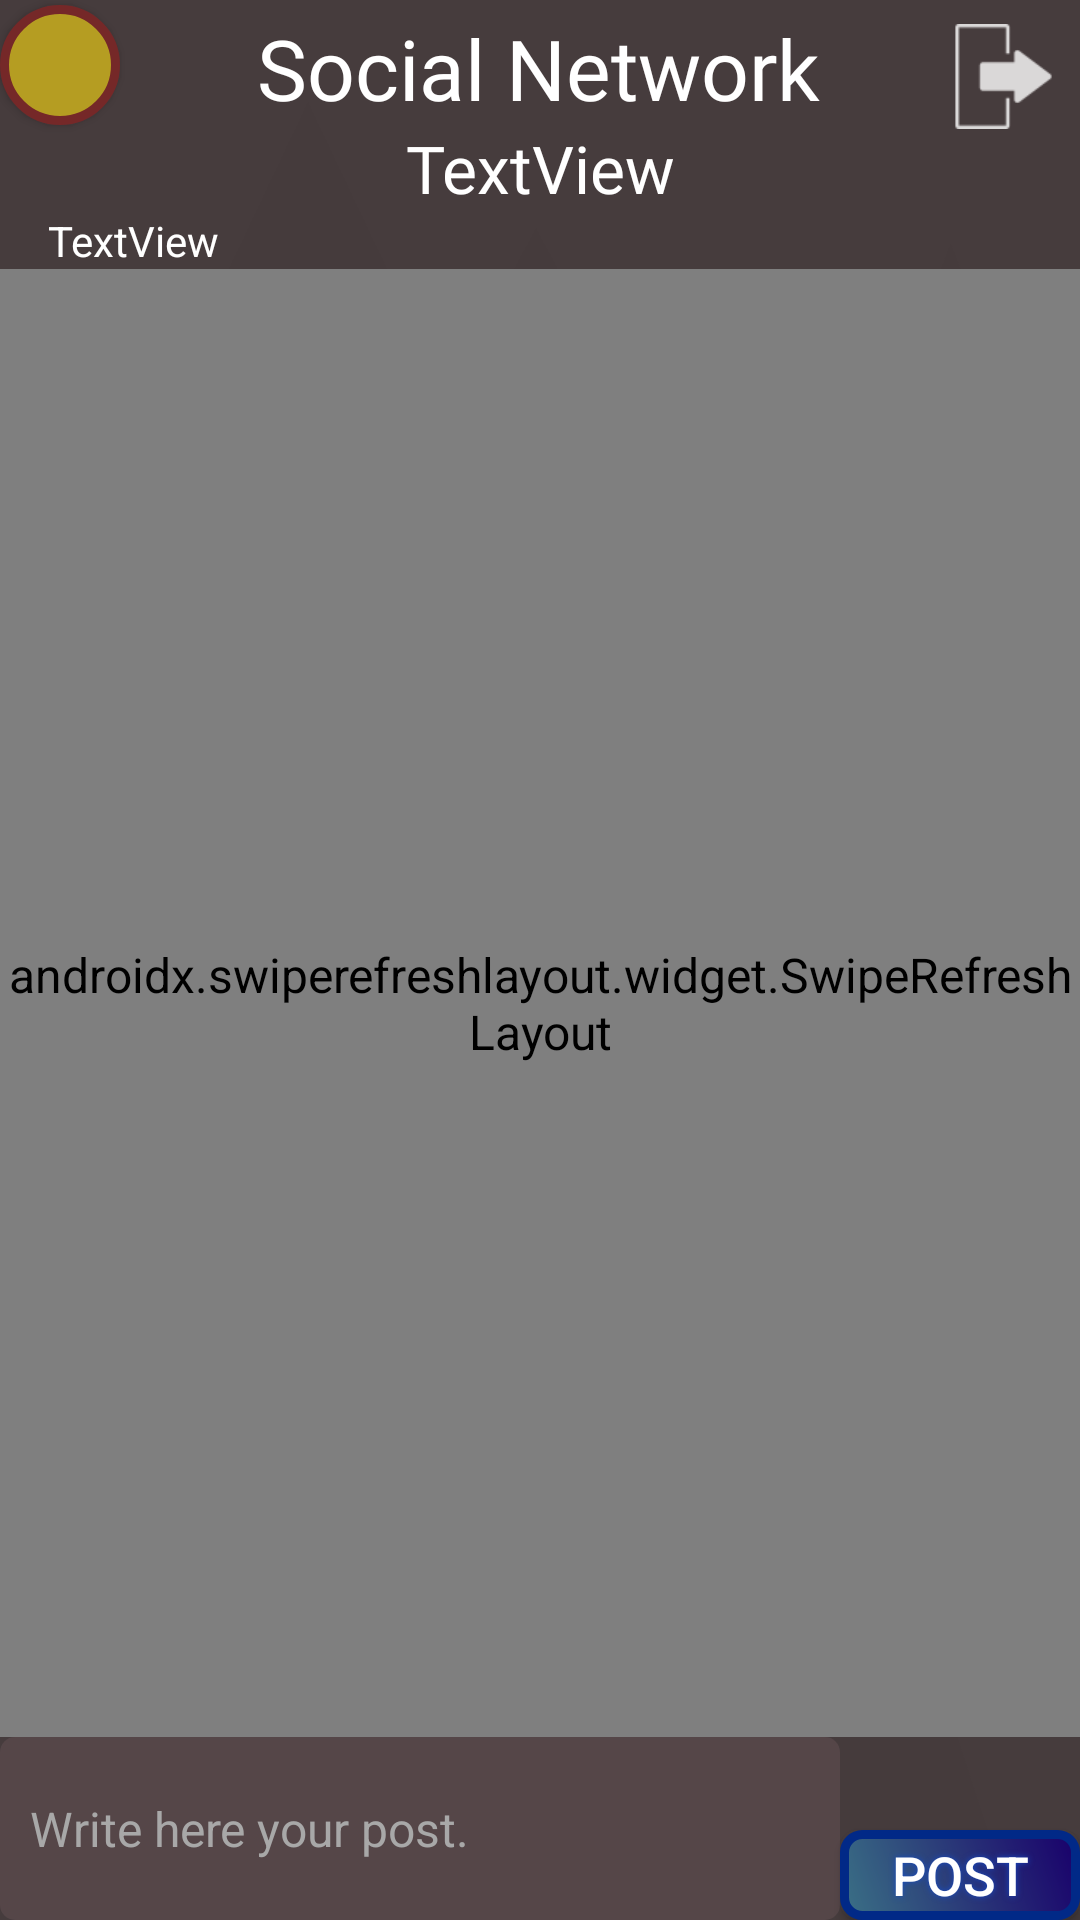

Where icons sit on this 1080x1920 app screen, as (x1, y1, x2, y2):
log out: (955, 24, 1052, 129)
